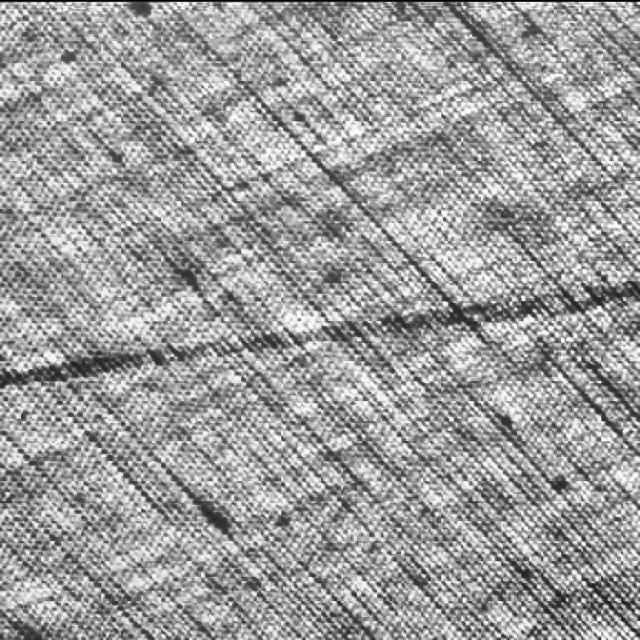oil_spot: (0, 263, 640, 422)
